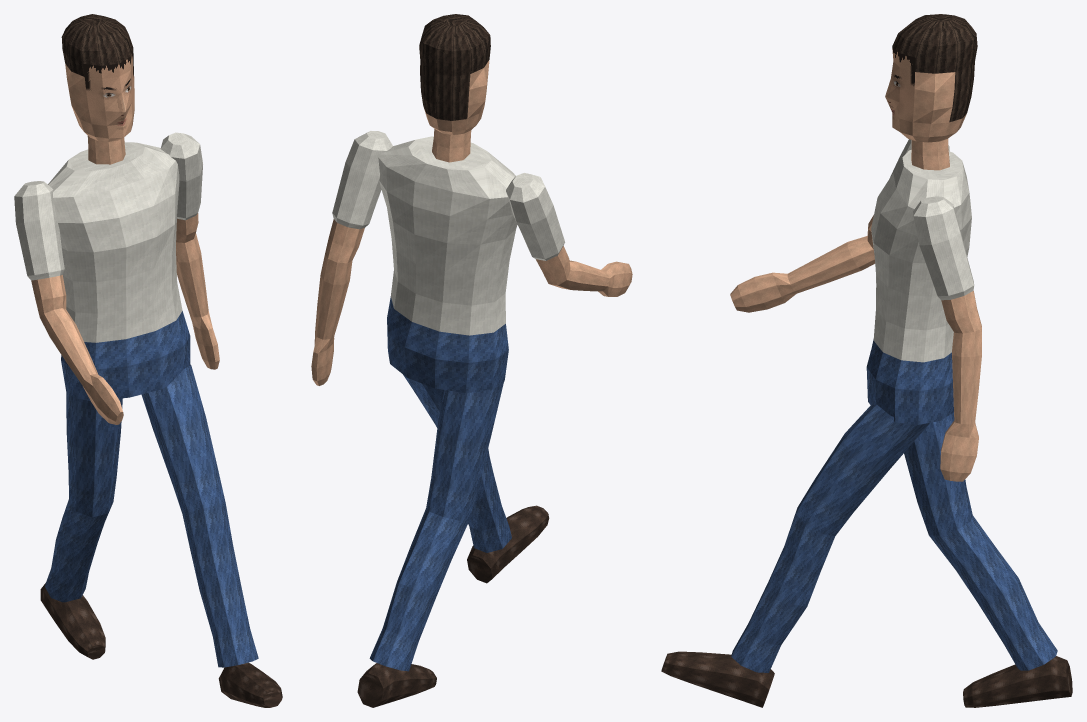
File: walk_05.obj
3 renders of one model, left to right at view 1: azimuth 30°, elevation 25°; view 2: azimuth 150°, elevation 25°; view 3: azimuth 270°, elevation 25°, orthographic. The views are drawn at different scales.
Size of the model in its own units: 0.6226 by 1.81 by 0.9921.
25 materials, 25 textured.
